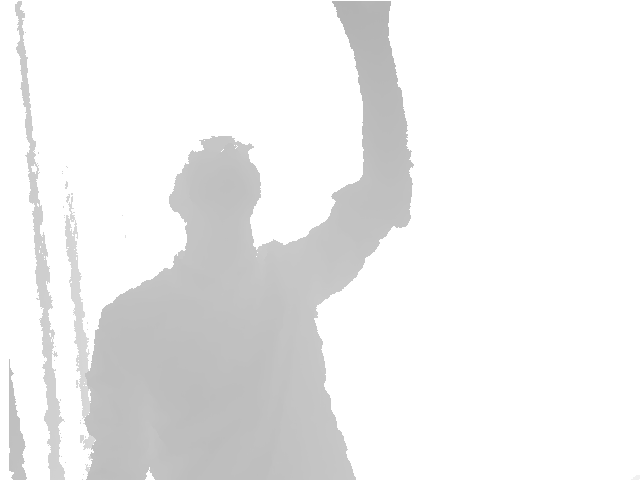head: (168, 135, 262, 241)
person: (84, 2, 415, 480)
